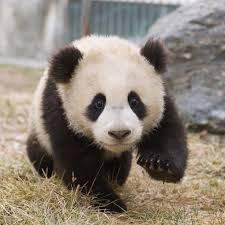bear: (26, 34, 187, 212)
